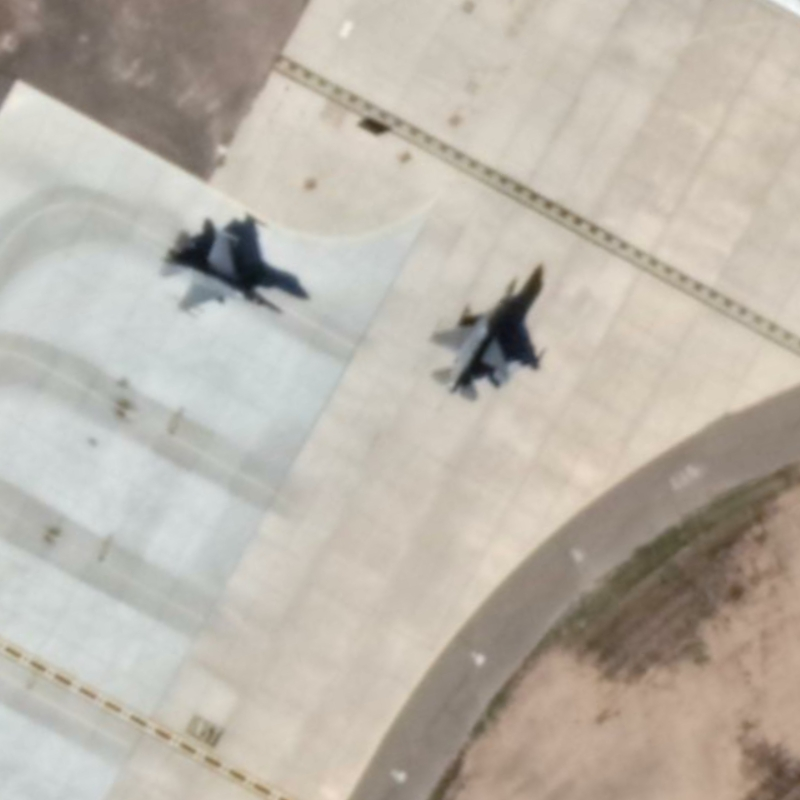A5: (421, 272, 528, 405), (146, 220, 287, 319)
